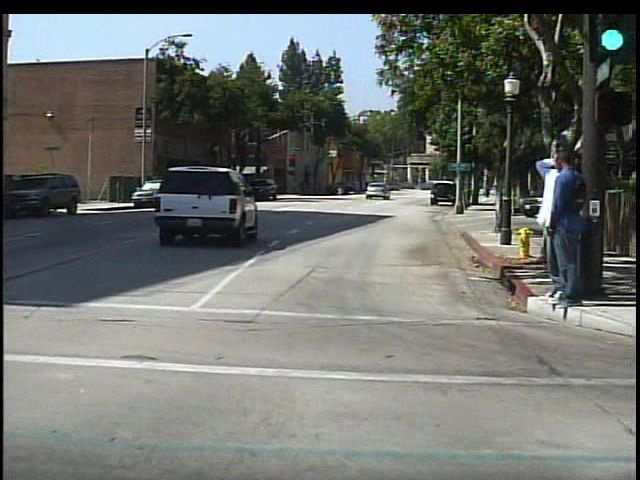person: (531, 147, 572, 302), (547, 149, 586, 310), (333, 177, 347, 197)
